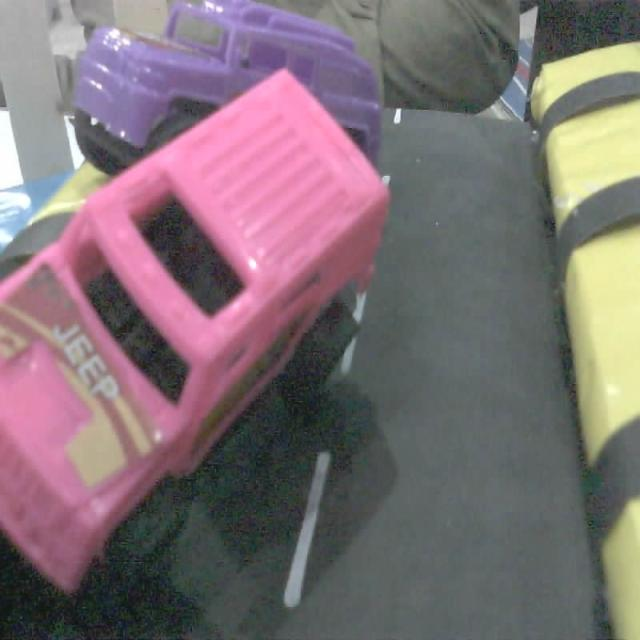Accident: (0, 0, 399, 609)
